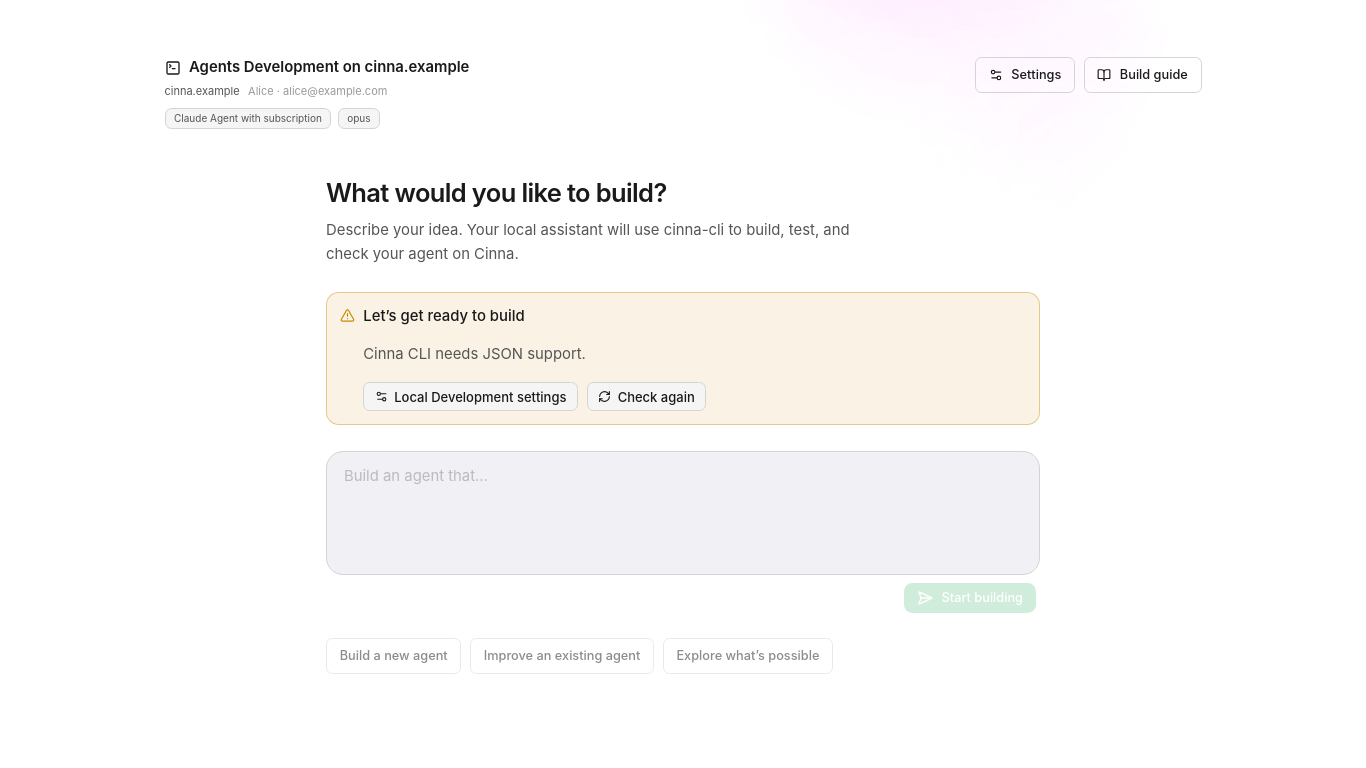
Scenario: Local Development entry › actually rechecks CLI capabilities and clears the blocker (runtime settings: false)
The width and height of the screenshot is (1366, 768).
Expected: the text "Cinna CLI needs JSON support." is shown, [363, 345, 586, 363]
Click the button "Check again".
click(646, 397)  # box [587, 382, 706, 411]
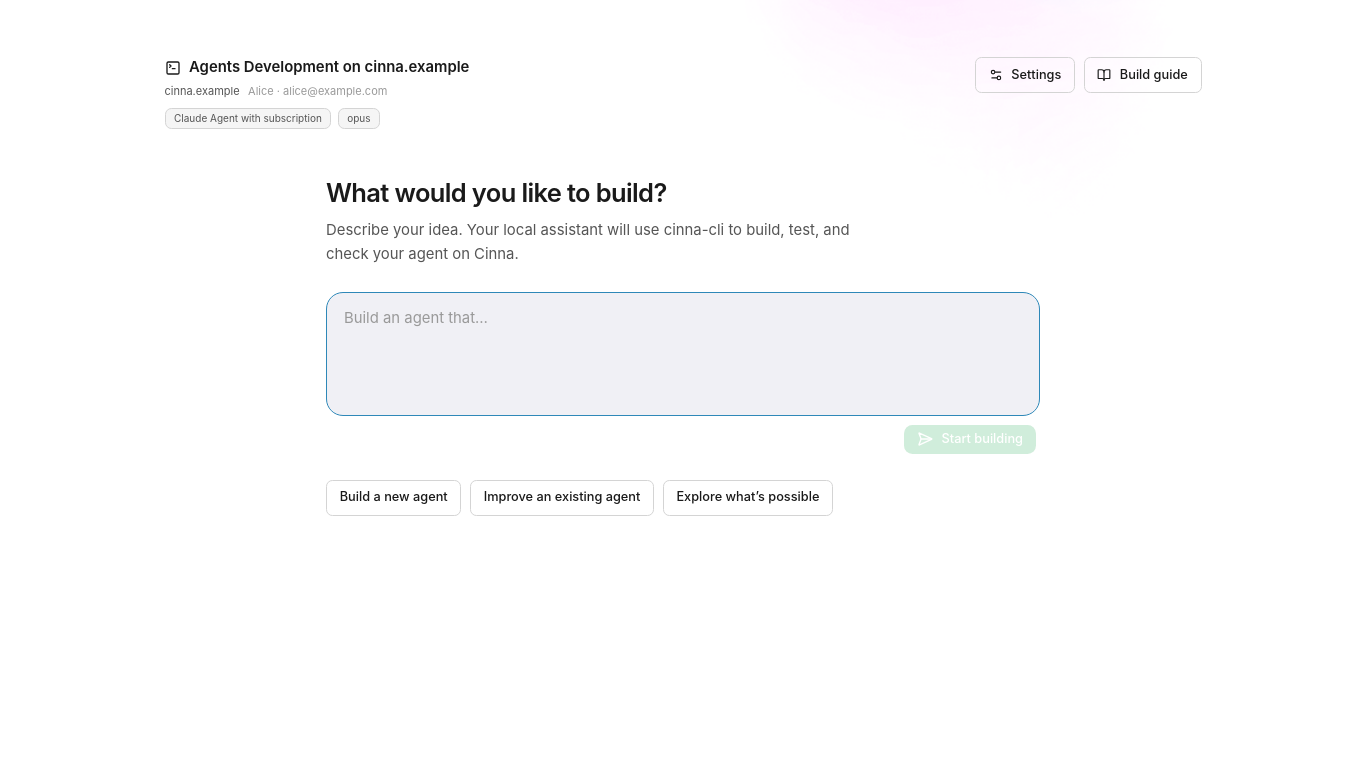
Expected: the text "Cinna CLI needs JSON support." is gone
